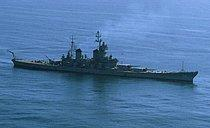Ship: (7, 39, 201, 84)
